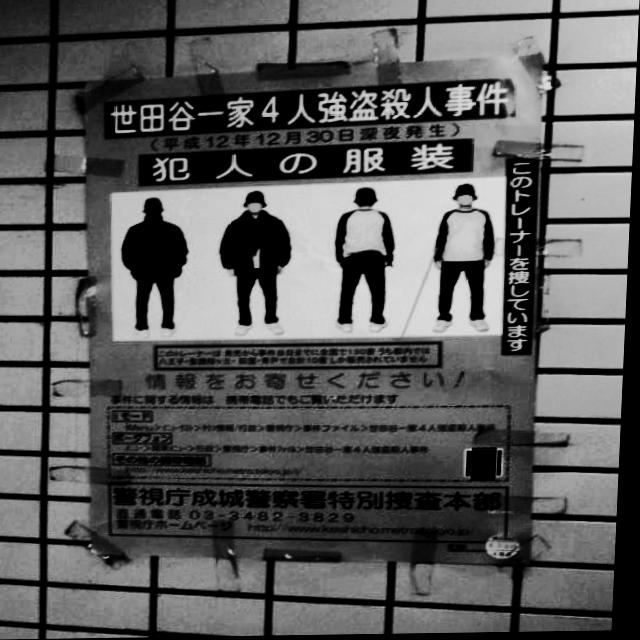qr_code: (473, 450, 504, 480)
